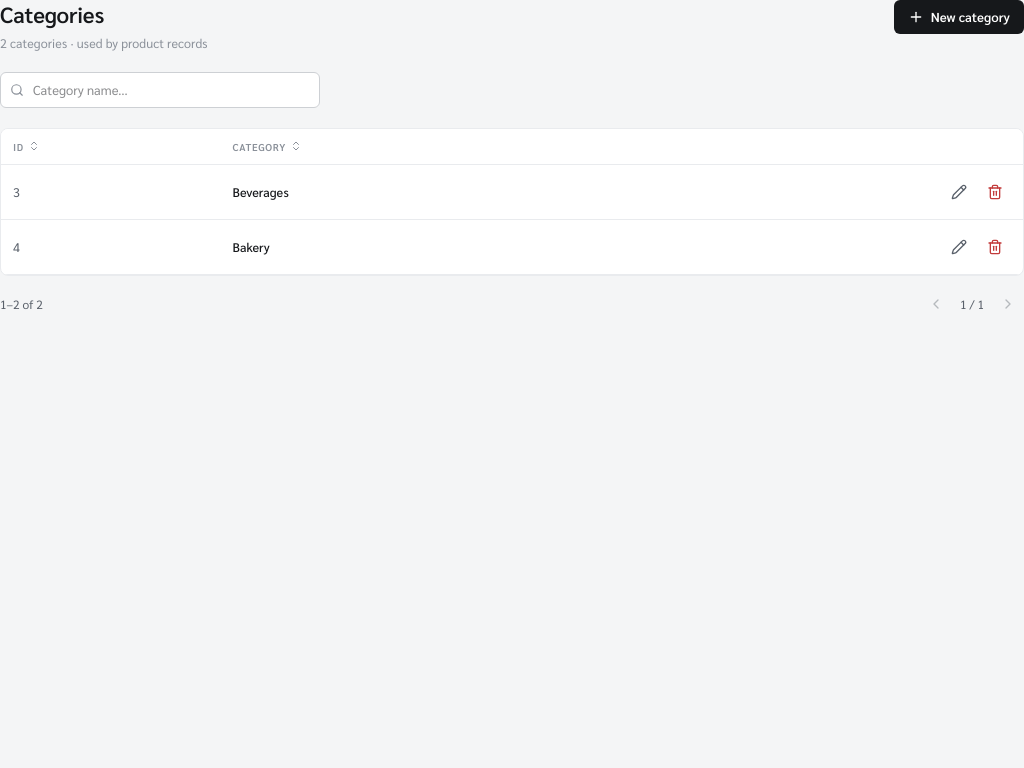
Test: MasterDataScreen via CategoriesView › maps a 422 field error onto the form field
Click the button "New category" at (959, 17), box [894, 0, 1023, 34]
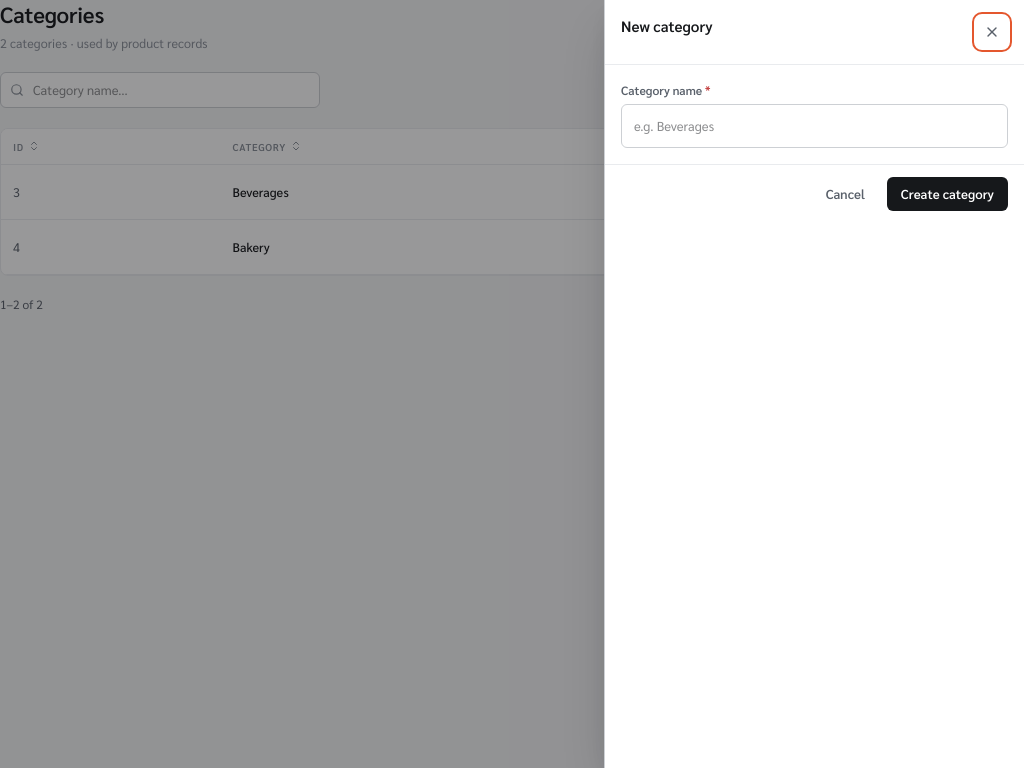
Type "Chilli" into the field labelled "Category name *" at (814, 126), box [621, 104, 1008, 148]
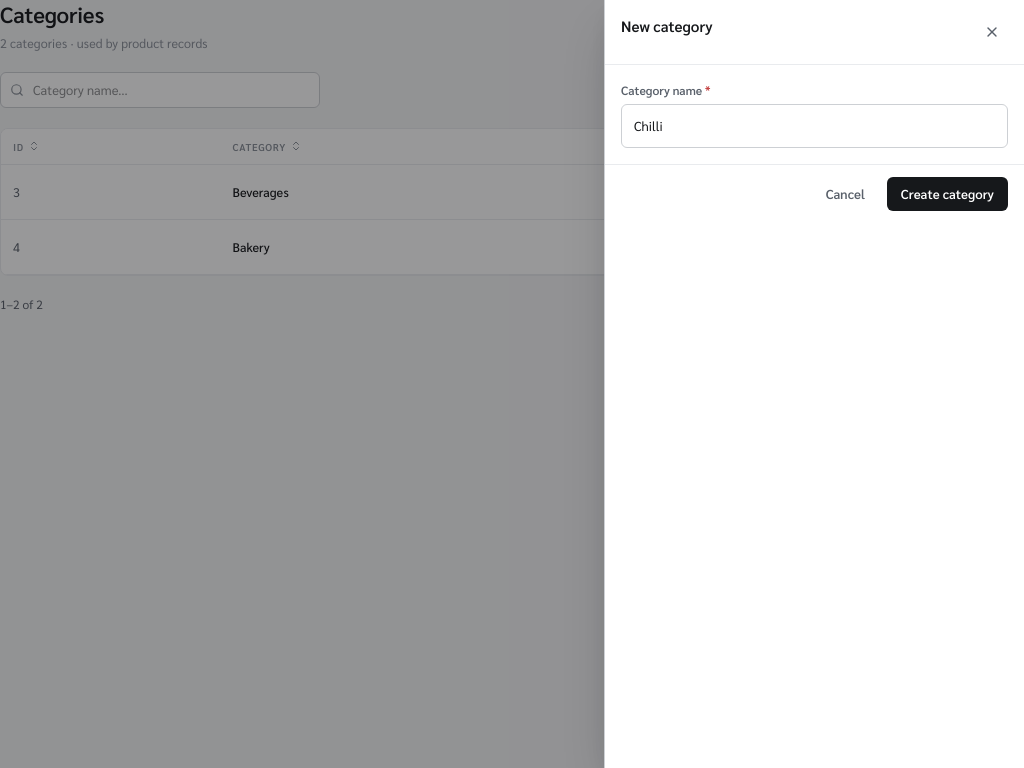
Click the button "Create category" at (947, 194), box [887, 177, 1008, 211]
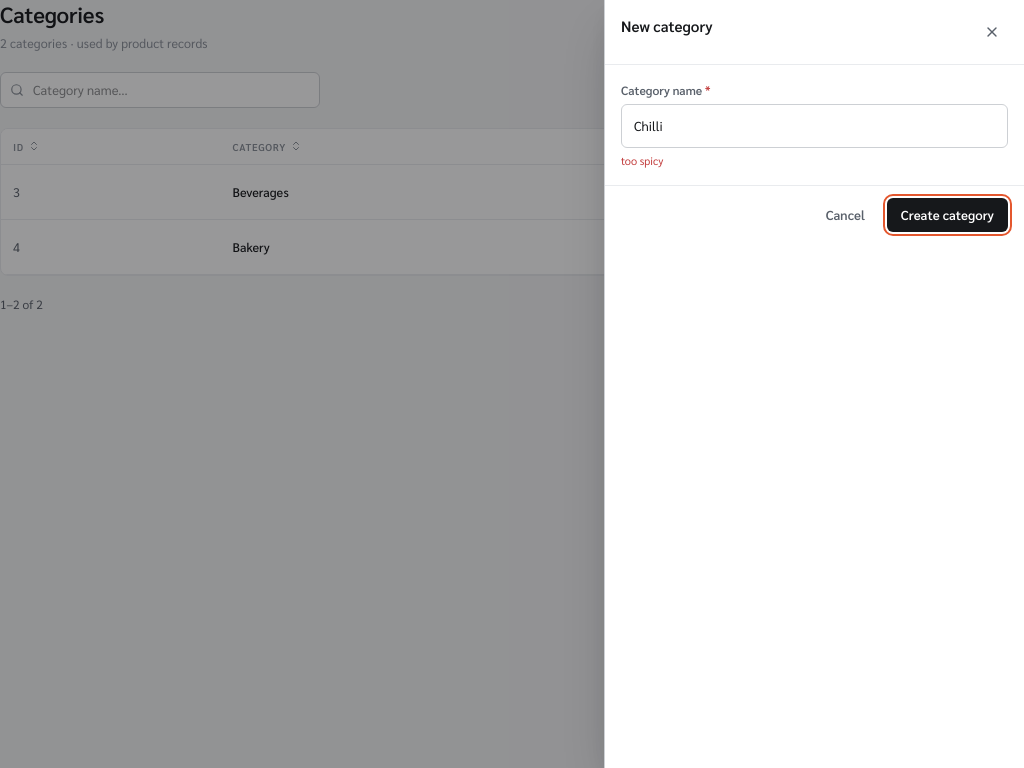
Expected: the text "too spicy" is shown, [621, 153, 663, 168]
